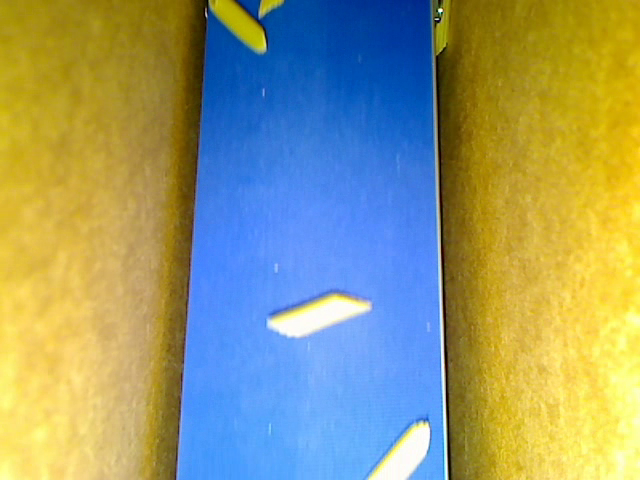penne: (259, 290, 377, 342), (365, 415, 431, 479), (204, 1, 263, 56), (429, 1, 452, 56), (252, 1, 294, 16)
